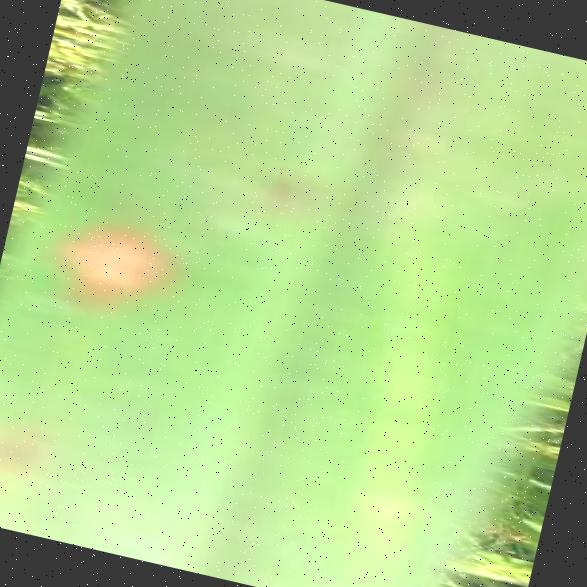Leaf_smut: (20, 176, 202, 372)
